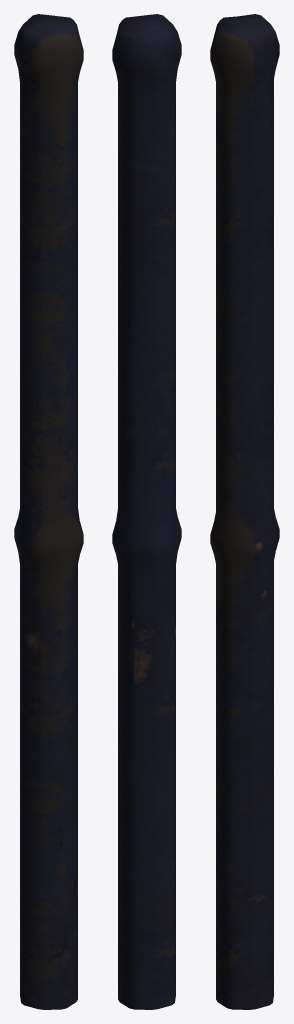
File: barier_2.gltf
3 views of the same model, side by side, from view 1: azimuth 30°, elevation 25°; view 2: azimuth 150°, elevation 25°; view 3: azimuth 330°, elevation 25° (orthographic).
Parts seen in each view (by area): view 1: barrier_2; view 2: barrier_2; view 3: barrier_2.
Part boxes in pixels (x1=…): barrier_2: x1=14, y1=14, x2=83, y2=1009; barrier_2: x1=112, y1=14, x2=181, y2=1009; barrier_2: x1=210, y1=14, x2=279, y2=1009.
Bounding box in the file's own units: 0.0541 × 0.9255 × 0.0541.
1 material, 1 textured.
